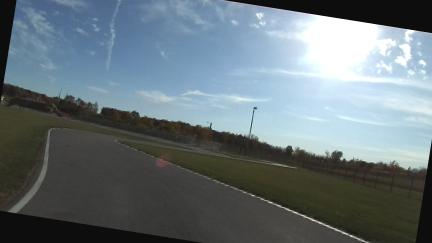Grass: (123, 142, 421, 242), (0, 105, 181, 206), (215, 152, 273, 164)
Lane: (19, 129, 360, 242)
